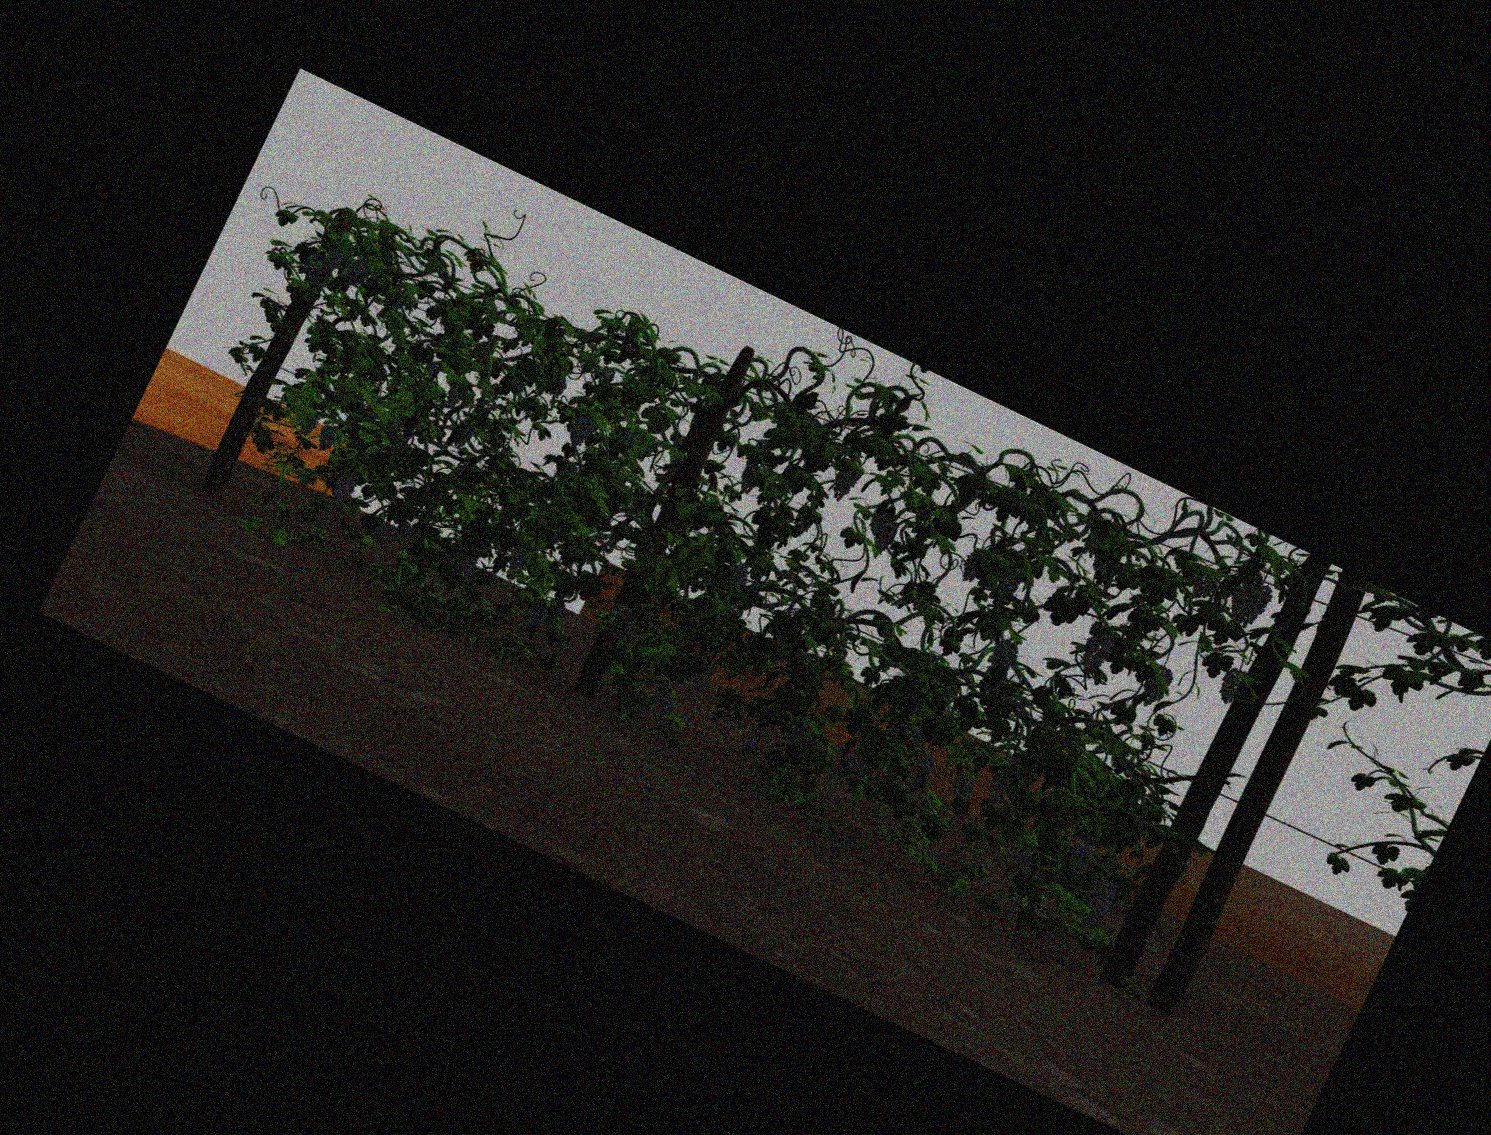grape: (1234, 579, 1267, 624), (1082, 629, 1108, 672), (1142, 664, 1167, 705), (1069, 841, 1092, 876), (833, 465, 856, 500), (1079, 903, 1104, 934), (989, 765, 1009, 804), (1219, 666, 1240, 703), (992, 638, 1015, 669), (1091, 877, 1116, 906), (912, 753, 931, 788), (748, 717, 768, 749), (952, 773, 973, 802), (334, 472, 354, 501), (653, 691, 672, 721), (1001, 569, 1020, 597), (571, 415, 590, 444), (352, 255, 369, 285), (1015, 848, 1036, 874), (621, 619, 640, 646), (876, 521, 893, 552), (740, 463, 757, 494), (1192, 575, 1213, 598), (962, 553, 980, 582), (692, 662, 712, 688), (372, 520, 391, 545), (445, 382, 464, 407), (322, 244, 341, 269), (845, 757, 866, 779), (728, 564, 748, 587), (509, 546, 527, 571), (318, 423, 335, 449), (303, 255, 319, 279), (528, 603, 545, 626), (870, 510, 886, 533), (458, 557, 476, 576), (399, 520, 414, 542), (302, 413, 316, 435), (621, 432, 636, 447), (599, 366, 615, 382), (609, 602, 626, 616), (728, 603, 743, 616)
